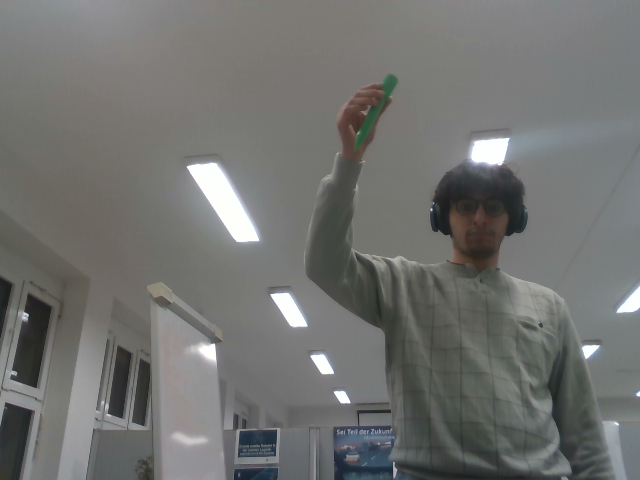Probe: (351, 70, 403, 152)
